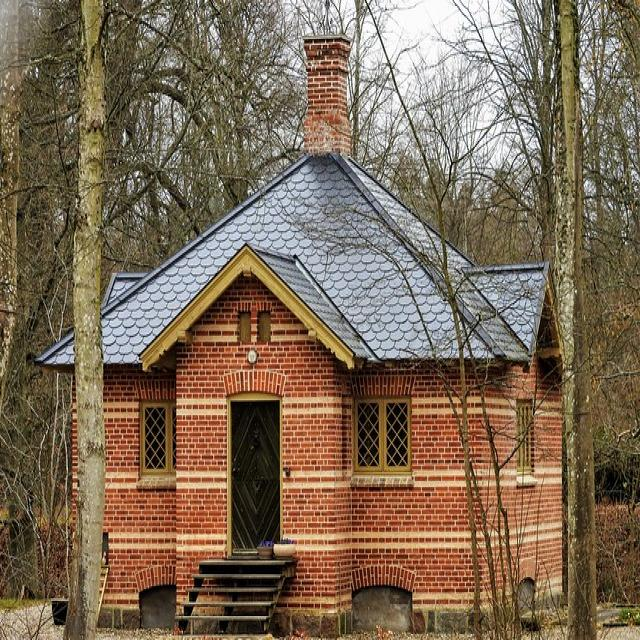Normal_building: (33, 29, 570, 636)
